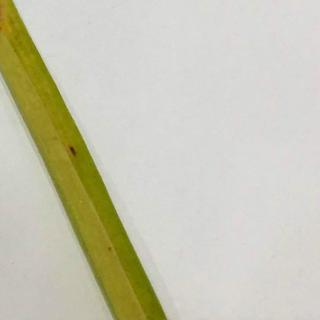bercak-Cokelat: (65, 138, 81, 166)
